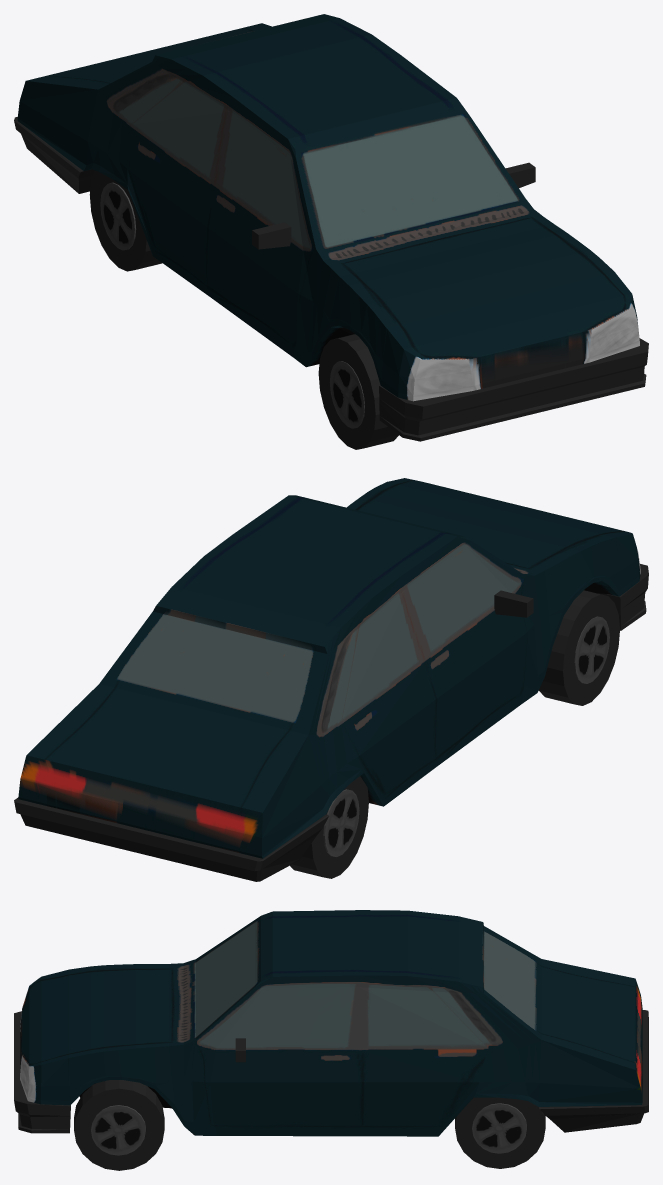
Rendered from Sedan.fbx.
3 views of the same model, one above another, from view 1: azimuth 30°, elevation 25°; view 2: azimuth 150°, elevation 25°; view 3: azimuth 270°, elevation 25° (orthographic). The views are drawn at different scales.
Visible parts, largest first — view 1: Sedan; view 2: Sedan; view 3: Sedan.
Part boxes in pixels (x1=…): Sedan: x1=14, y1=14, x2=648, y2=449; Sedan: x1=14, y1=478, x2=648, y2=881; Sedan: x1=14, y1=910, x2=648, y2=1170.
Bounding box in the file's own units: 0.0848 × 0.0669 × 0.2118.
3 materials, 2 textured.
